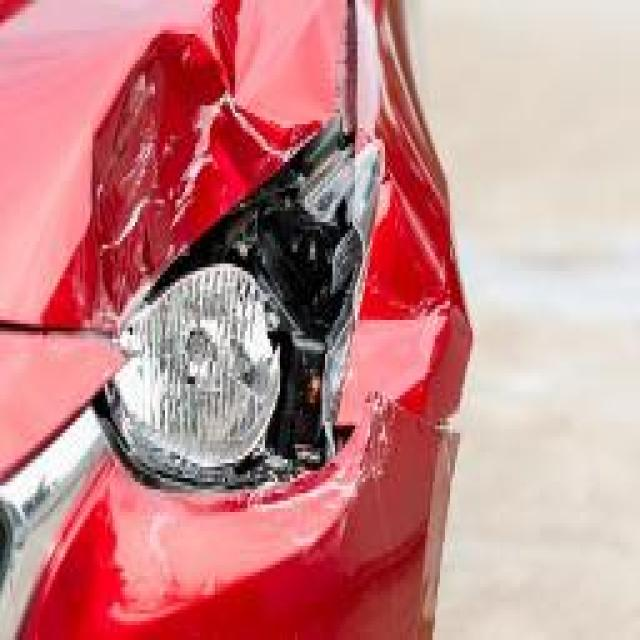Bonnet: (18, 0, 349, 333)
Bumper: (0, 177, 477, 640)
Light: (99, 107, 382, 492)
